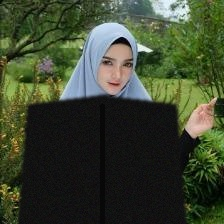Cadar_Niqab: (18, 18, 186, 224)
